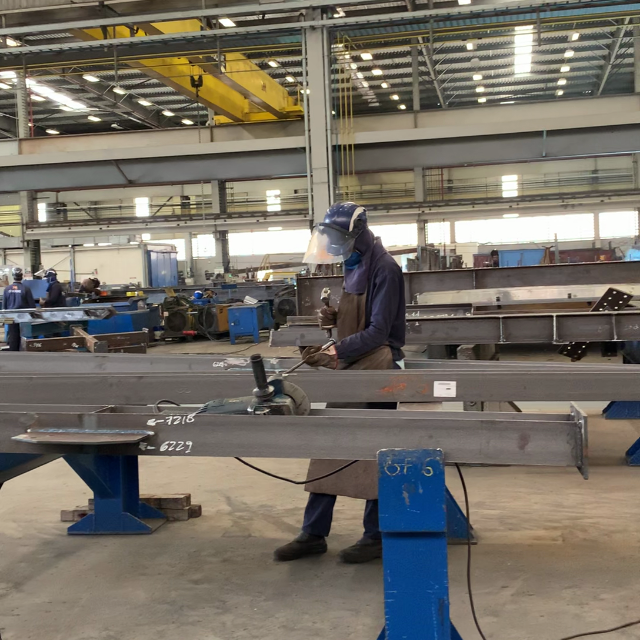face-shield: (303, 224, 357, 264)
glove: (300, 345, 341, 370)
helmet: (323, 200, 366, 228)
person: (271, 201, 408, 566)
safety-shoe: (272, 531, 326, 562), (338, 526, 382, 564)
